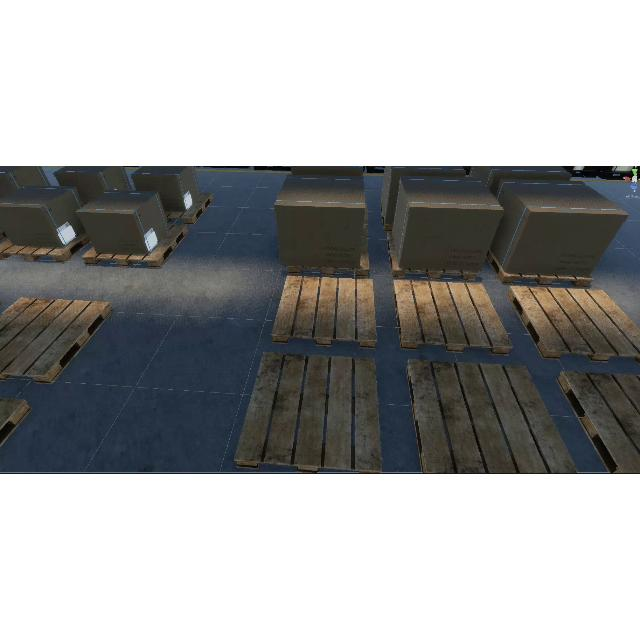wooden_pallet: (506, 286, 640, 366), (392, 280, 513, 356), (81, 224, 190, 270), (386, 232, 477, 282), (486, 248, 595, 289), (165, 192, 214, 225)
